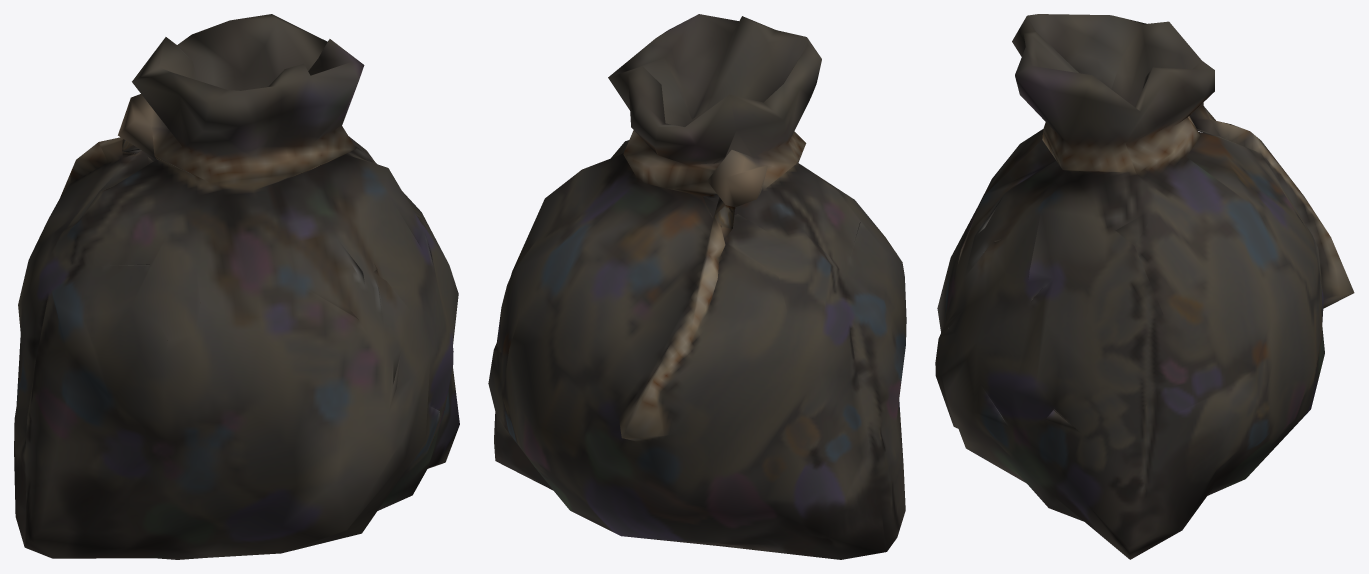
The model's file is item_sack_small.fbx.
The picture shows the model from 3 angles, left to right: view 1: azimuth 30°, elevation 25°; view 2: azimuth 150°, elevation 25°; view 3: azimuth 270°, elevation 25°; orthographic projection. The views are drawn at different scales.
Visible parts, largest first — view 1: Mesh (3); view 2: Mesh (3); view 3: Mesh (3).
Boxes of the visible parts, x1,y1,x2,y2 form: Mesh (3): [14, 14, 459, 559]; Mesh (3): [488, 14, 906, 559]; Mesh (3): [935, 14, 1354, 559].
Bounding box in the file's own units: 216 × 241 × 206.
1 material, 1 textured.
